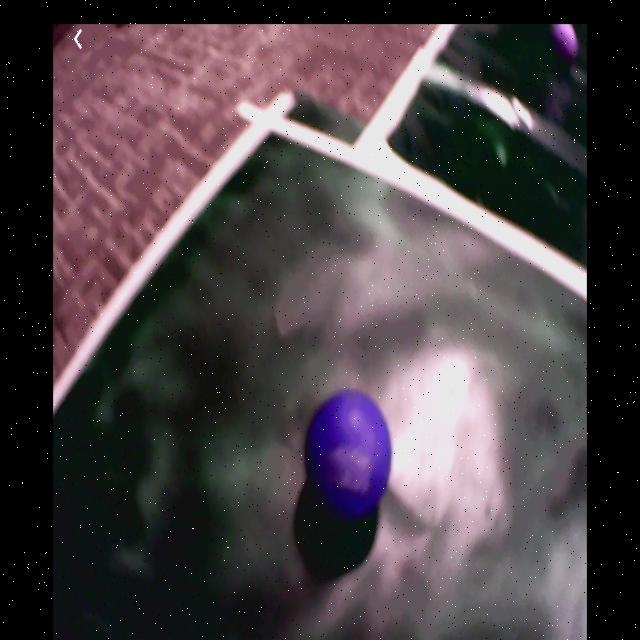ball: (307, 391, 392, 515), (556, 26, 579, 55)
